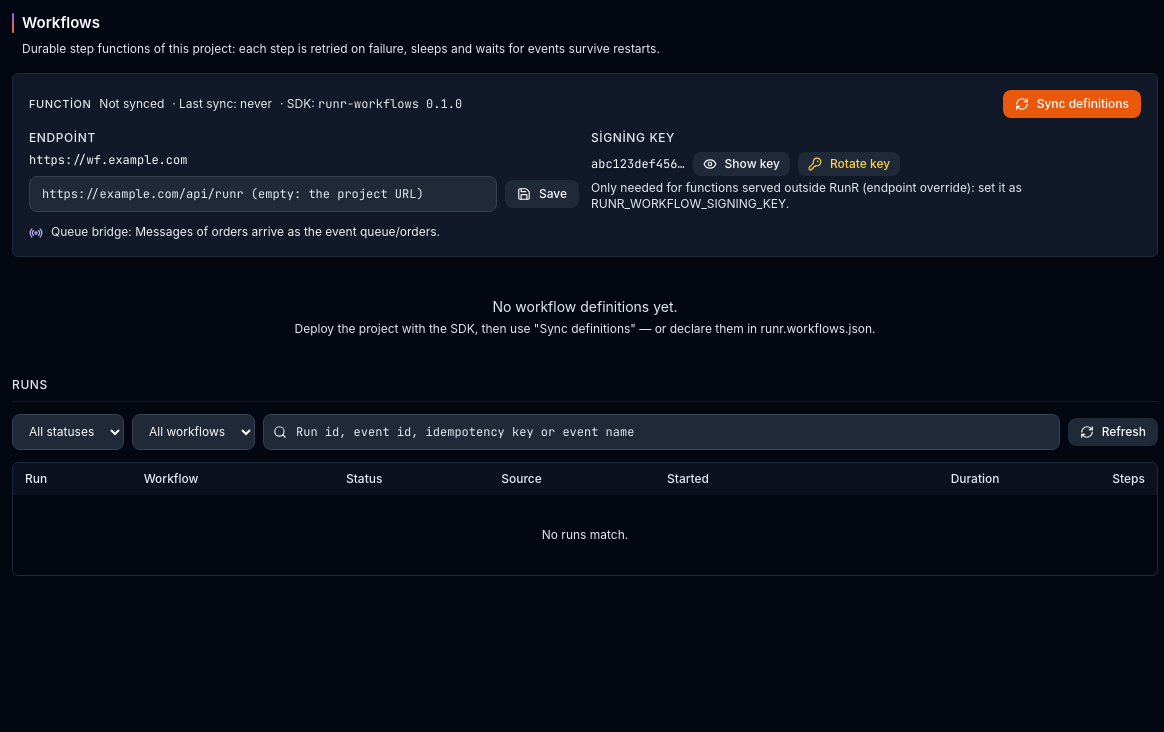
Test case: WorkflowsTab › syncs definitions from the panel
The width and height of the screenshot is (1164, 732).
Expected: the text with test id "sync-status" reads "Not synced", [99, 96, 164, 110]
Click the button with test id "sync-button" at (1072, 104), box [1003, 90, 1141, 118]
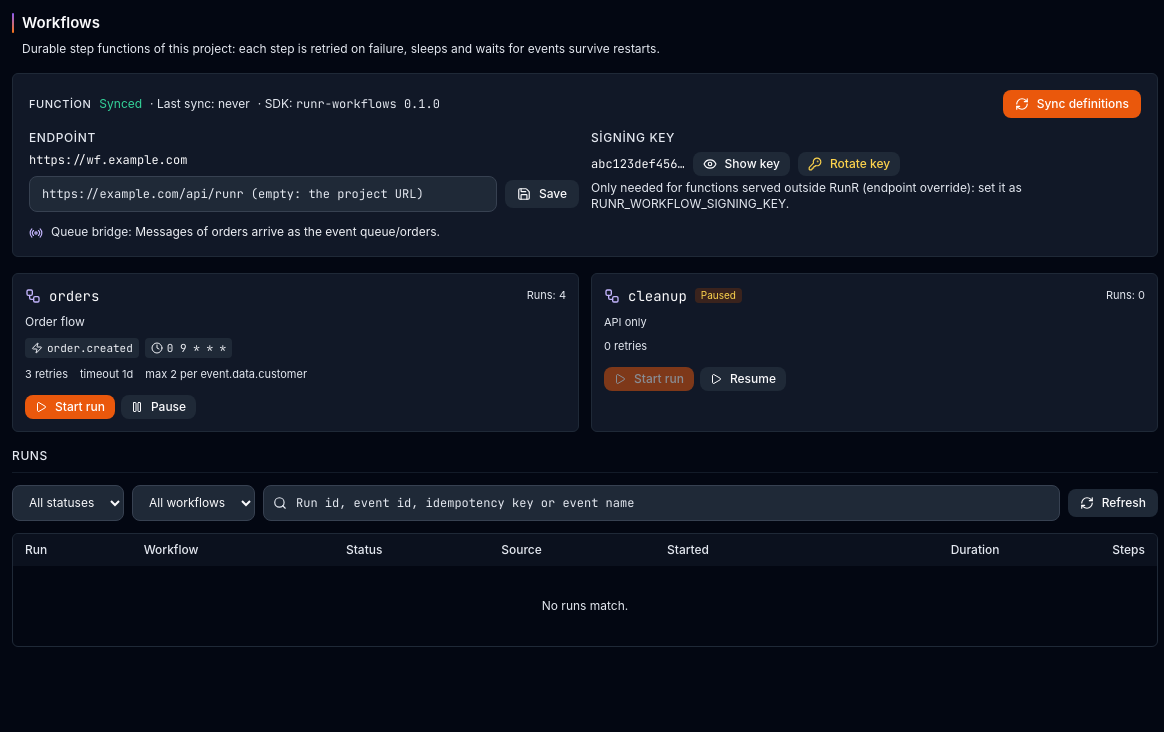
Expected: the text with test id "sync-status" reads "Synced", [99, 96, 142, 110]
